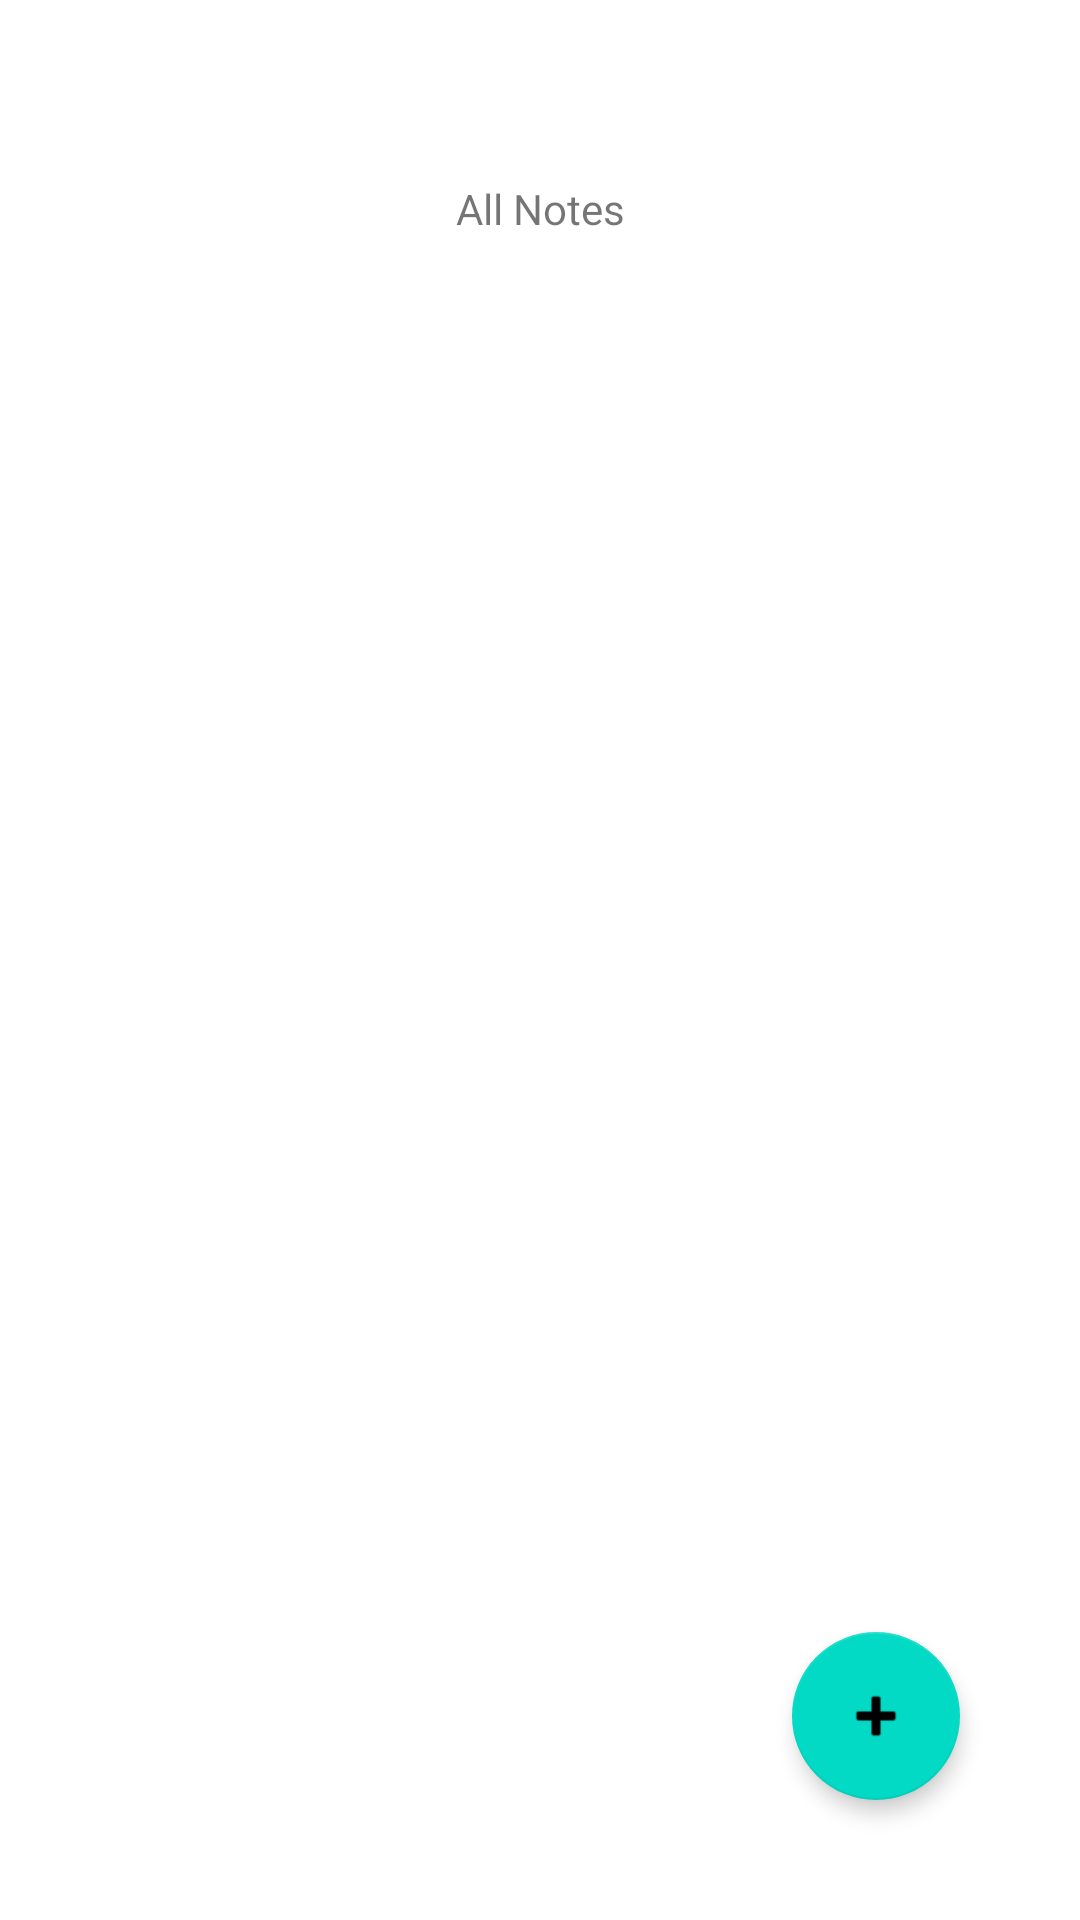

Icons on this 1080x1920 Android screen, each with its box as box(x1, y1, x2, y2):
Add Note: box(792, 1632, 960, 1800)
